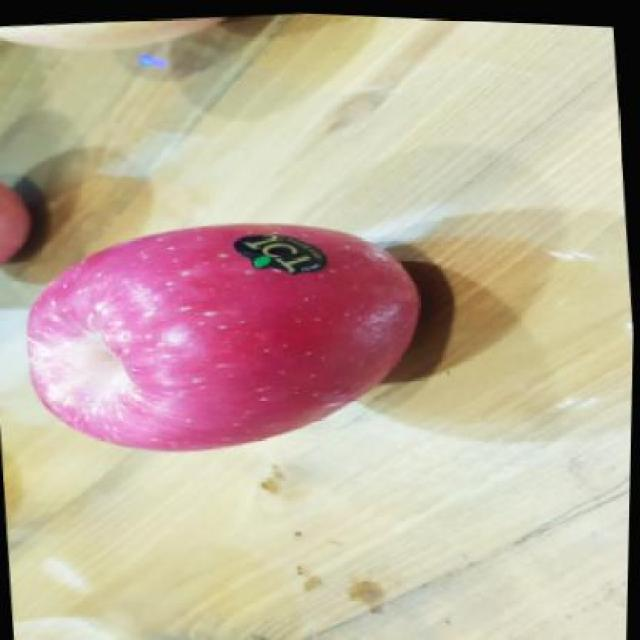Fresh Apple: (17, 232, 392, 453)
